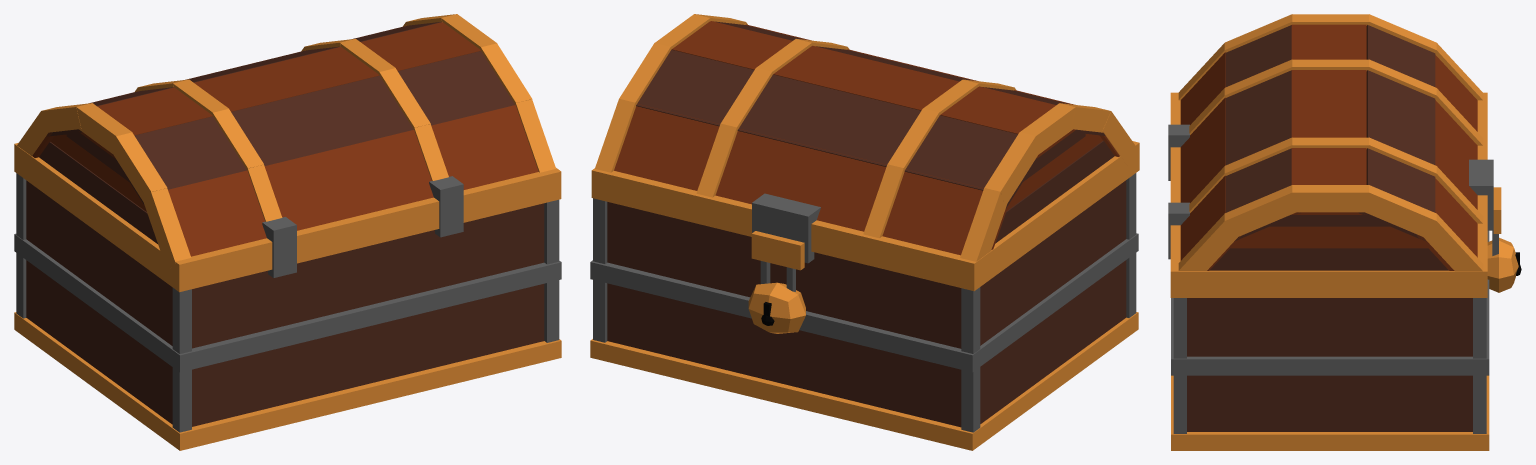
The model's file is chest.fbx.
3 renders of one model, left to right at view 1: azimuth 30°, elevation 25°; view 2: azimuth 150°, elevation 25°; view 3: azimuth 270°, elevation 25°, orthographic. The views are drawn at different scales.
Parts seen in each view (by area): view 1: Cube, Cube.032, Cube.031, Cube.006, Cube.030, Cube.026, Cube.027, Cube.012, Cube.025, Cube.036, Cube.024, Cube.033 (+18 smaller); view 2: Cube, Cube.028, Cube.029, Cube.006, Cube.030, Cube.027, Cube.026, Cube.012, Cube.015, Cube.023, Cube.017, Cube.037 (+19 smaller); view 3: Cube, Cube.006, Cube.030, Cube.029, Cube.031, Cube.026, Cube.032, Cube.027, Cube.028, Cube.007, Cube.008, Cube.003 (+27 smaller).
Part boxes in pixels (x1=…): Cube: x1=26, y1=180, x2=544, y2=426; Cube.032: x1=168, y1=105, x2=538, y2=256; Cube.031: x1=112, y1=51, x2=514, y2=205; Cube.006: x1=14, y1=143, x2=561, y2=292; Cube.030: x1=79, y1=22, x2=480, y2=158; Cube.026: x1=14, y1=233, x2=561, y2=372; Cube.027: x1=14, y1=312, x2=561, y2=450; Cube.012: x1=39, y1=142, x2=157, y2=243; Cube.025: x1=172, y1=288, x2=191, y2=432; Cube.036: x1=142, y1=188, x2=191, y2=270; Cube.024: x1=544, y1=199, x2=559, y2=342; Cube.033: x1=111, y1=132, x2=167, y2=201; Cube: x1=607, y1=180, x2=1126, y2=427; Cube.028: x1=614, y1=104, x2=1008, y2=255; Cube.029: x1=636, y1=50, x2=1038, y2=208; Cube.006: x1=591, y1=141, x2=1139, y2=291; Cube.030: x1=671, y1=21, x2=1075, y2=158; Cube.027: x1=590, y1=312, x2=1138, y2=450; Cube.026: x1=590, y1=233, x2=1138, y2=372; Cube.012: x1=995, y1=140, x2=1114, y2=243; Cube.015: x1=752, y1=193, x2=820, y2=263; Cube.023: x1=961, y1=287, x2=980, y2=432; Cube.017: x1=748, y1=282, x2=805, y2=333; Cube.037: x1=960, y1=188, x2=1006, y2=261; Cube: x1=1187, y1=298, x2=1472, y2=431; Cube.006: x1=1170, y1=92, x2=1487, y2=297; Cube.030: x1=1291, y1=24, x2=1366, y2=214; Cube.029: x1=1358, y1=25, x2=1435, y2=241; Cube.031: x1=1225, y1=25, x2=1300, y2=241; Cube.026: x1=1171, y1=230, x2=1489, y2=375; Cube.032: x1=1180, y1=52, x2=1240, y2=270; Cube.027: x1=1171, y1=375, x2=1489, y2=450; Cube.028: x1=1417, y1=55, x2=1477, y2=270; Cube.007: x1=1210, y1=248, x2=1448, y2=270; Cube.008: x1=1230, y1=226, x2=1427, y2=248; Cube.003: x1=1292, y1=185, x2=1368, y2=212.
Size of the model in its own units: 9428 by 6324 by 7849.
